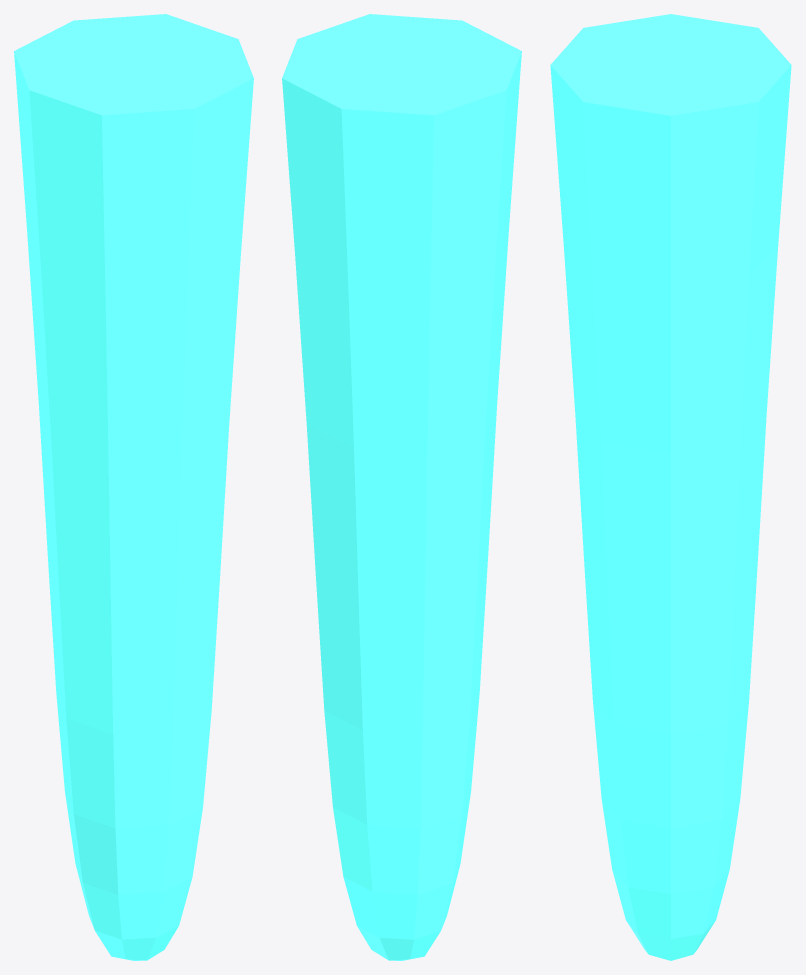
File: popsicle.fbx
The picture shows the model from 3 angles, left to right: view 1: azimuth 30°, elevation 25°; view 2: azimuth 150°, elevation 25°; view 3: azimuth 270°, elevation 25°; orthographic projection.
Visible parts, largest first — view 1: Cube; view 2: Cube; view 3: Cube.
Part boxes in pixels (<box>): Cube: <box>14,14,253,960</box>; Cube: <box>282,14,521,960</box>; Cube: <box>550,14,791,960</box>.
Bounding box in the file's own units: 18.34 × 75.1 × 18.34.
